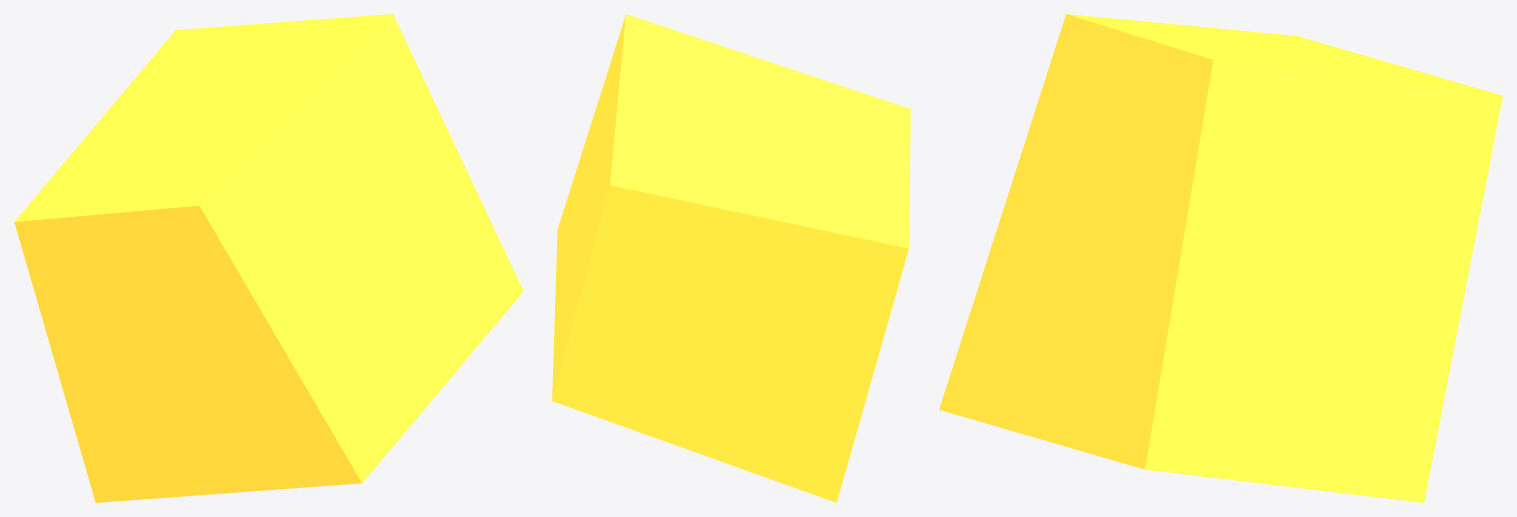
File: lava-brick.glb
3 renders of one model, left to right at view 1: azimuth 30°, elevation 25°; view 2: azimuth 150°, elevation 25°; view 3: azimuth 270°, elevation 25°, orthographic. The views are drawn at different scales.
Visible parts, largest first — view 1: lava-brick; view 2: lava-brick; view 3: lava-brick.
Part boxes in pixels (box(x1,y1,x2,y2)): lava-brick: box(14, 14, 523, 502); lava-brick: box(552, 14, 910, 502); lava-brick: box(939, 14, 1502, 502).
Bounding box in the file's own units: 0.6845 × 0.6553 × 0.6058.
1 material, 1 textured.
